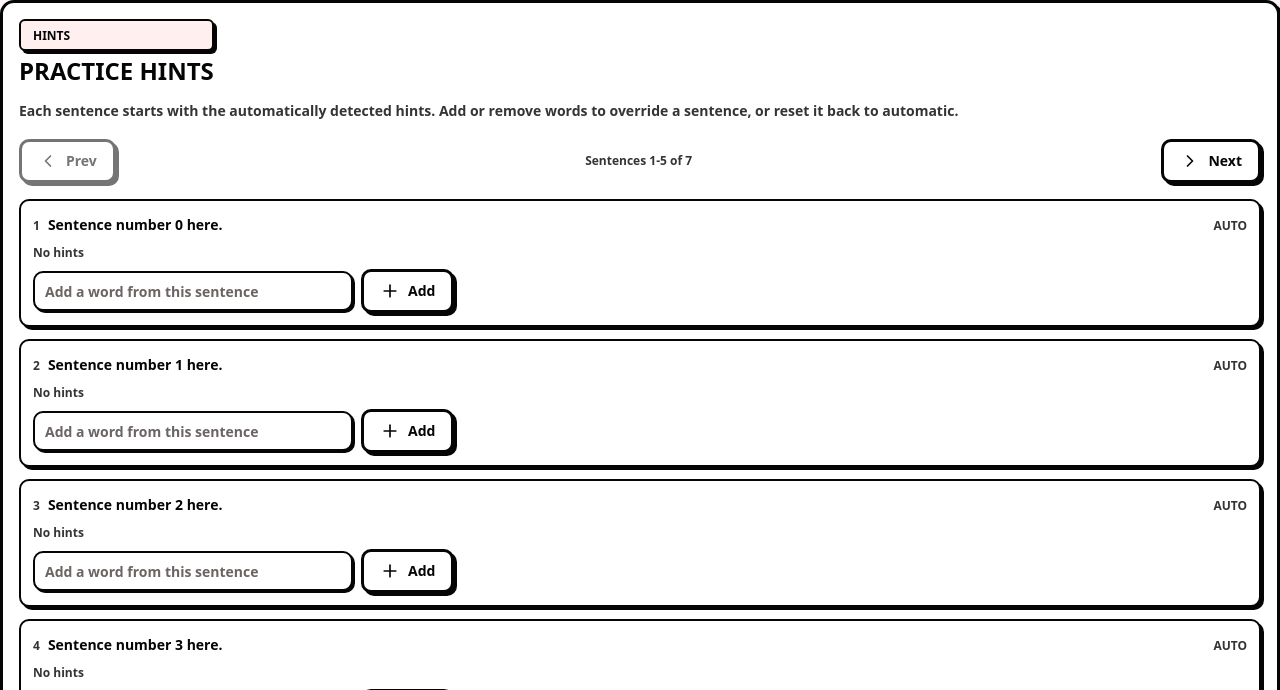
Test: DictationHintEditor › paginates 5 sentences per page
Expected: the text "Sentence number 0 here." is shown, x1=48 y1=213 x2=222 y2=237
Expected: the text "Sentence number 5 here." is not shown
// Next page: the remaining 2 sentences.
Step 1. Click the button "Next" → (1211, 161), box x1=1161 y1=139 x2=1261 y2=183
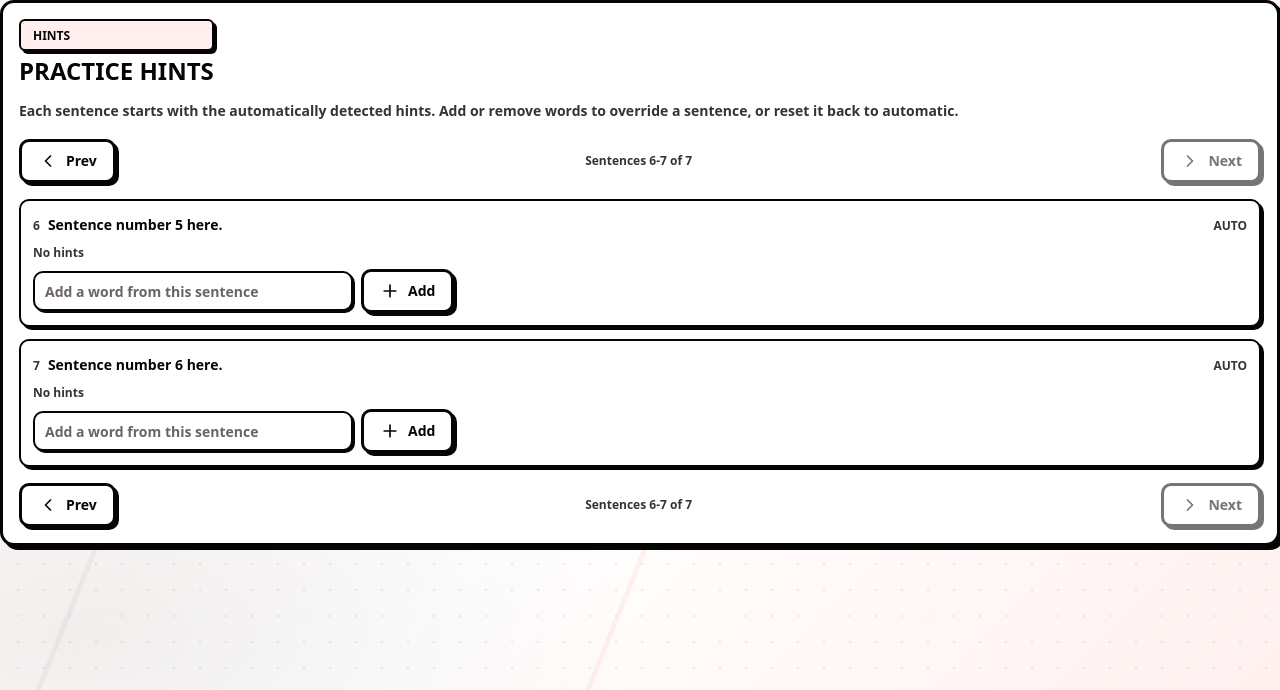
Expected: the text "Sentence number 5 here." is shown, x1=48 y1=213 x2=222 y2=237
Expected: the text "Sentence number 6 here." is shown, x1=48 y1=353 x2=222 y2=377
Expected: the text "Sentences 6-7 of 7" is shown 2 times, x1=585 y1=153 x2=692 y2=169; x1=585 y1=497 x2=692 y2=513
